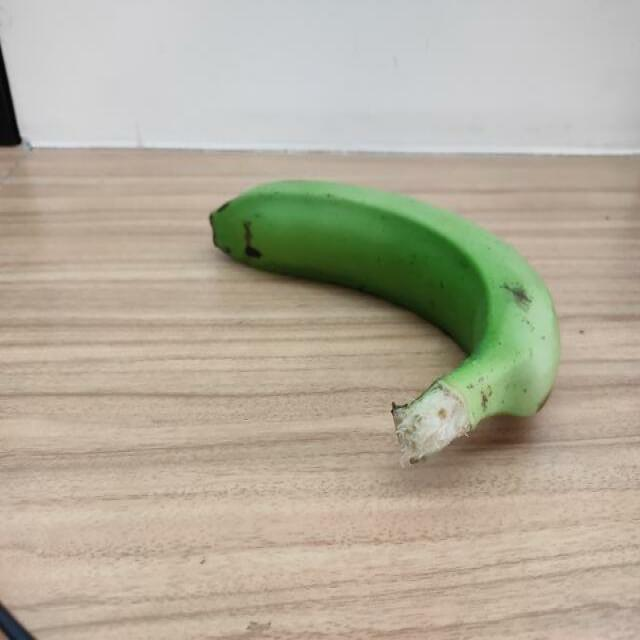Raw: (202, 154, 577, 482)
